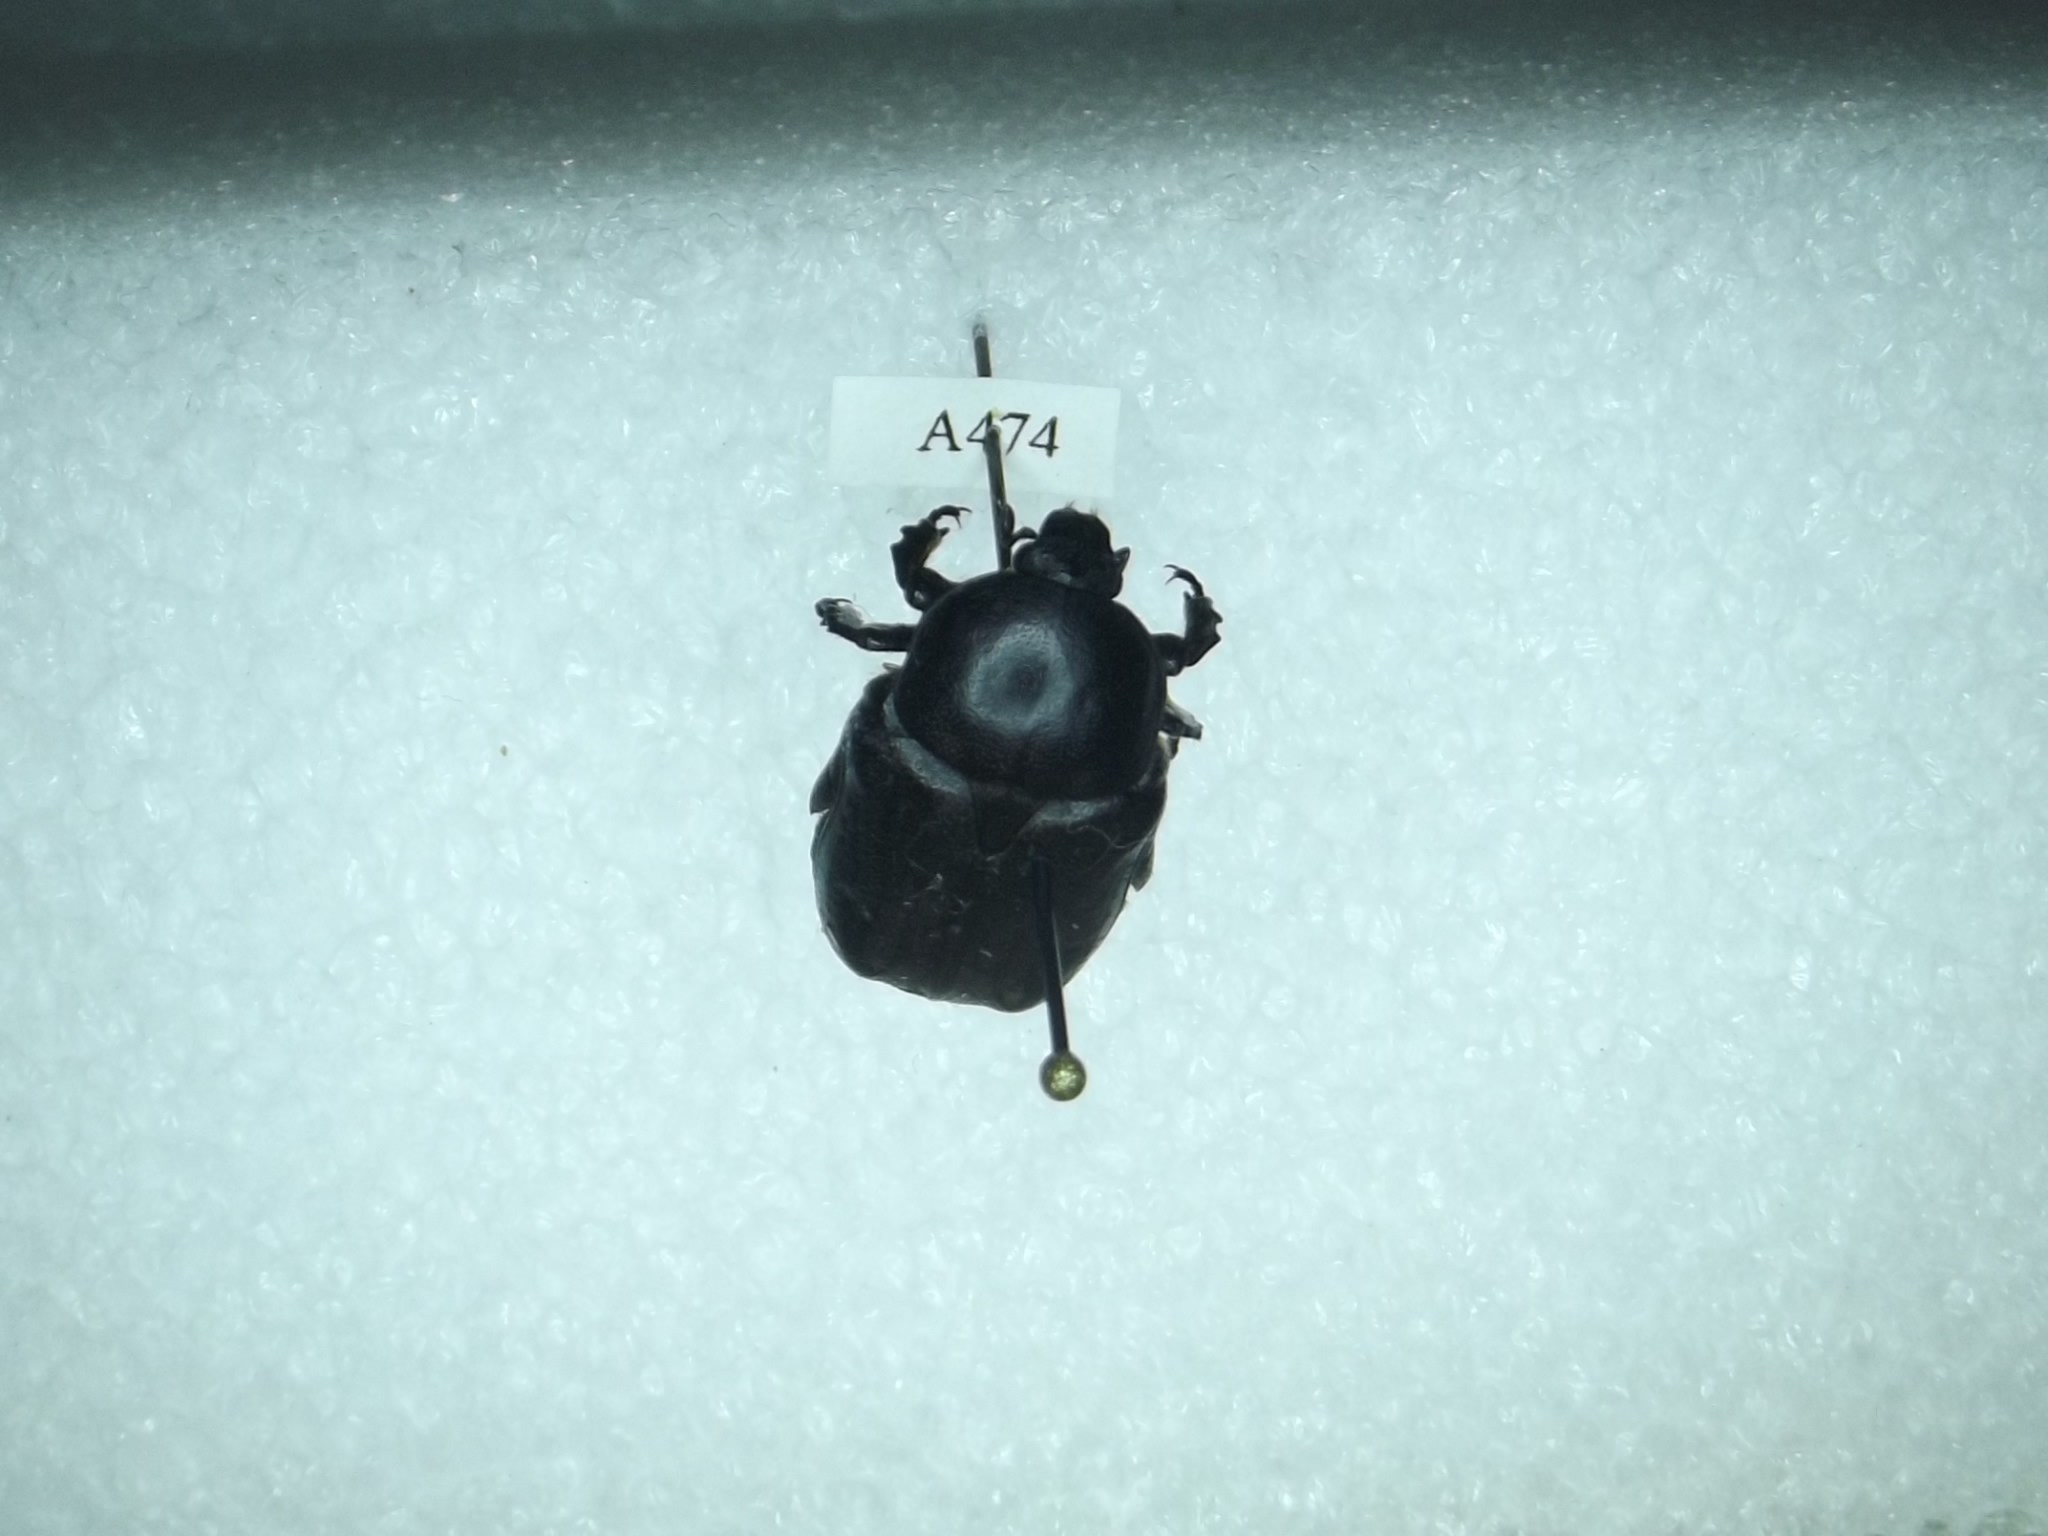Protaetia_vidua: (780, 479, 1263, 1026)
